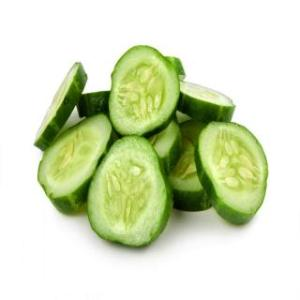cucumber: (84, 132, 174, 250), (197, 121, 265, 230), (39, 113, 107, 217), (110, 43, 178, 133), (33, 60, 83, 150), (172, 80, 234, 122)
